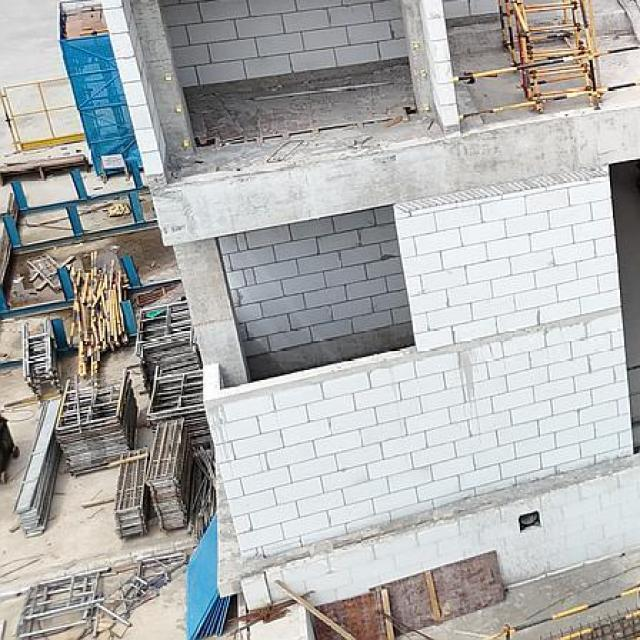Guardrail: (453, 44, 638, 119), (503, 584, 640, 639)
